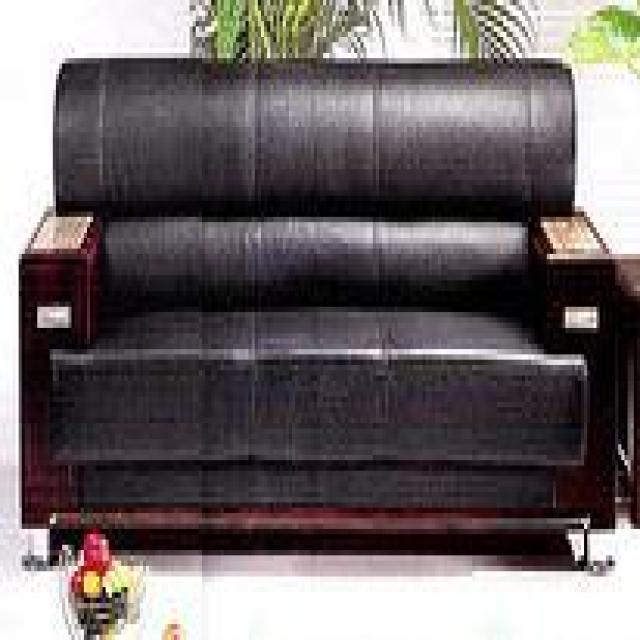sofa: (18, 55, 618, 574)
